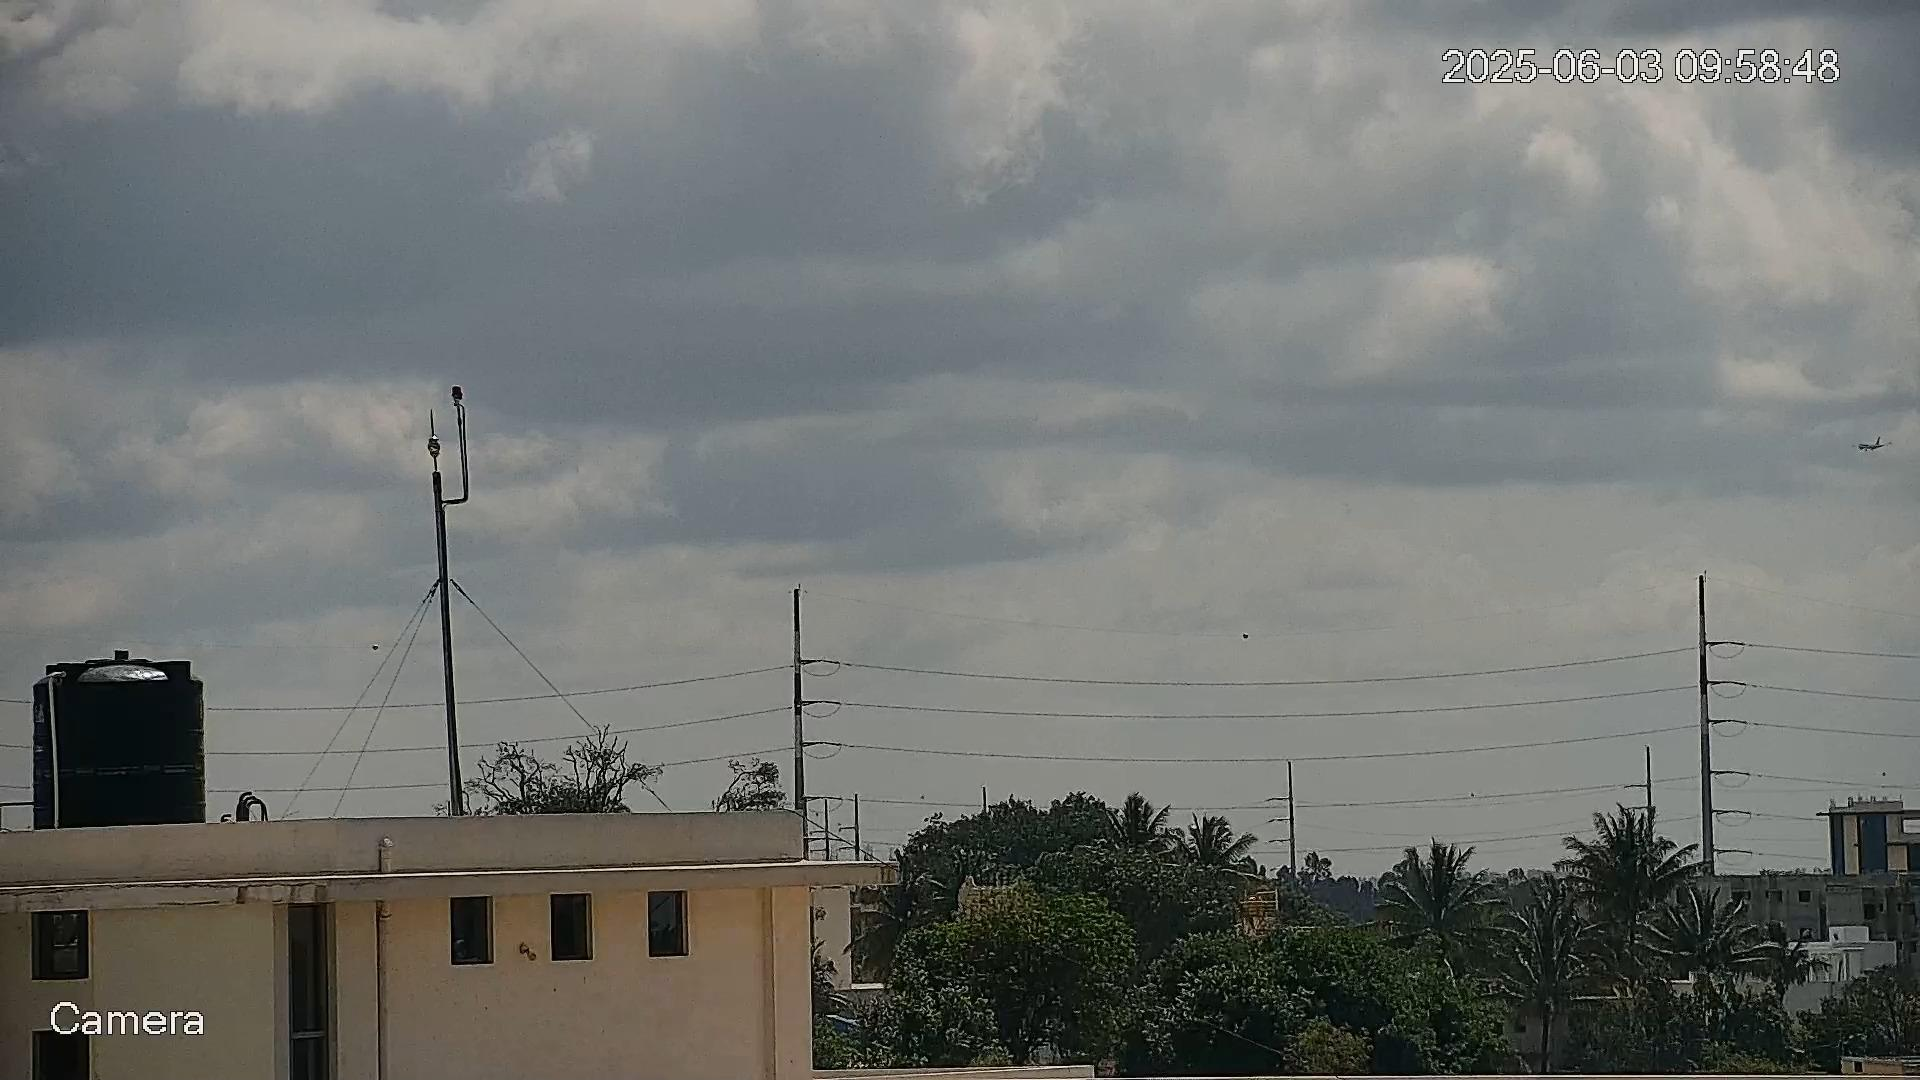Aircraft: (1857, 438, 1887, 452)
